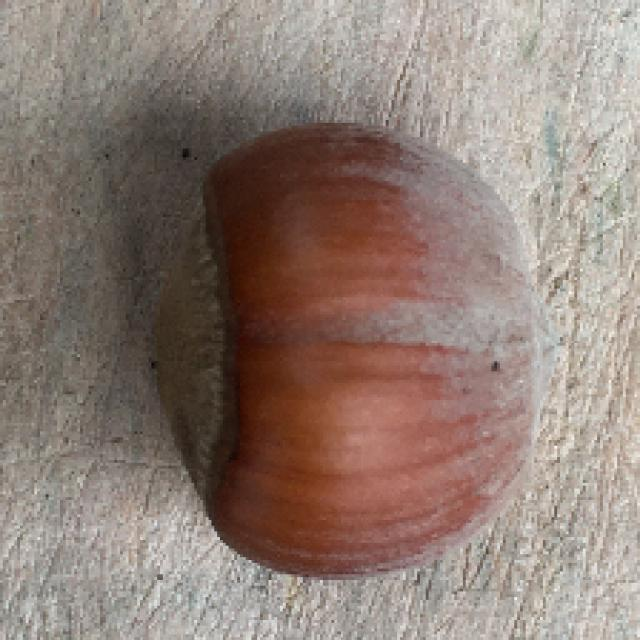qualityHazelnut: (153, 119, 563, 579)
